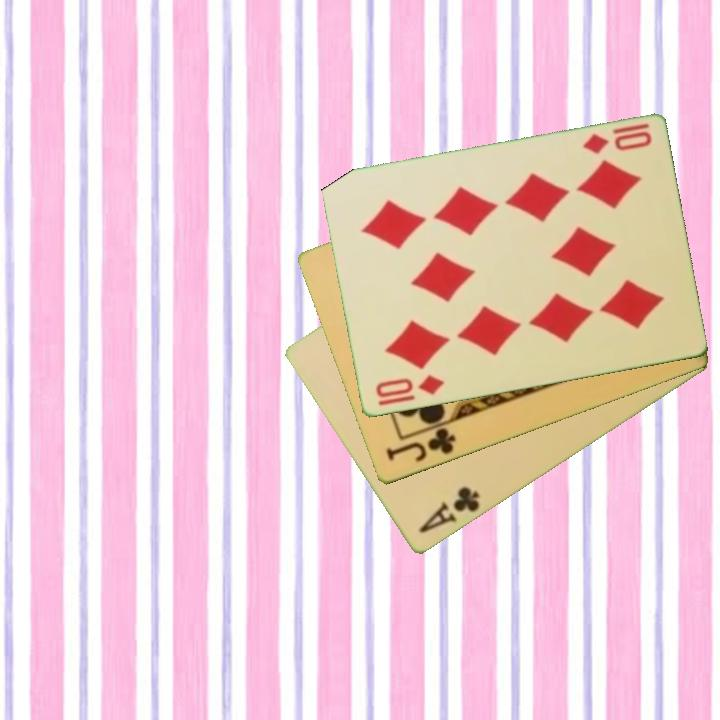10d: (579, 120, 654, 157), (371, 372, 447, 401)
Ac: (415, 483, 483, 537)
Jc: (382, 424, 459, 466)
